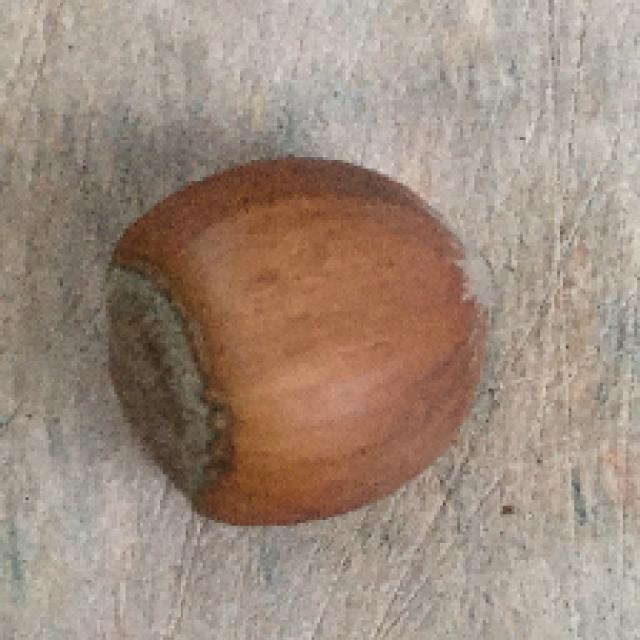DamagedHazelnut: (108, 155, 494, 526)
